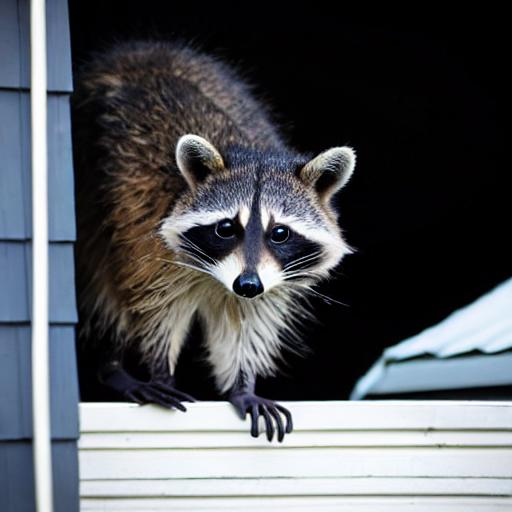raccoon: (74, 32, 361, 402)
